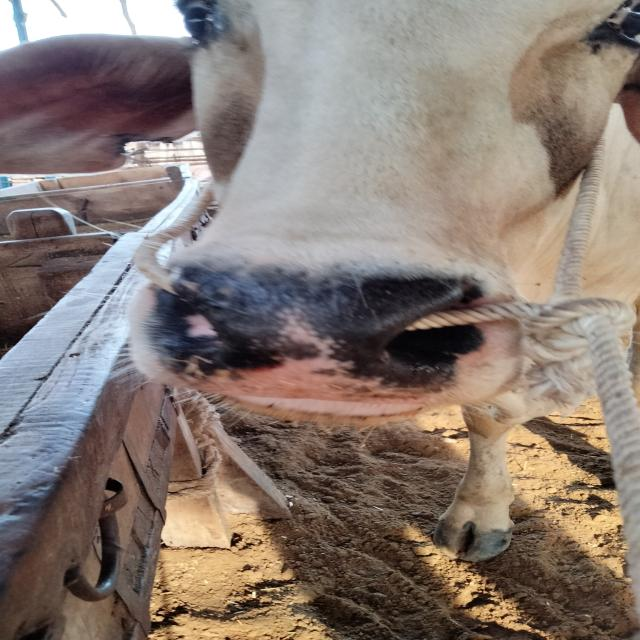muzzles: (140, 250, 486, 419)
